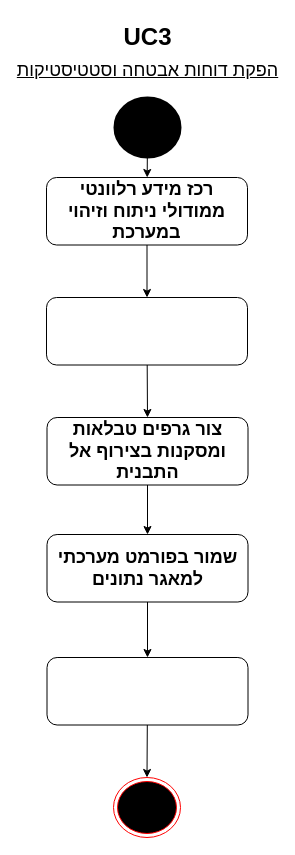
This 295x855 diagram has some shape labels left out. Each missing label, with the centre of its shape:
הצג הודעת סיום רלוונטית: (x=147, y=690)
צור תבנית דו"ח: (x=147, y=330)
